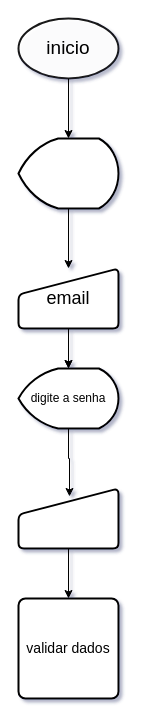
Image size: 142x722. Some labels were removed from this diagram. The shapes that lost their labels are listed below. From the top down, each one's box as (x1, y1, x2, y2) in pixels, then its label:
(17, 137, 119, 209): Digite seu email
(17, 487, 119, 549): senha
